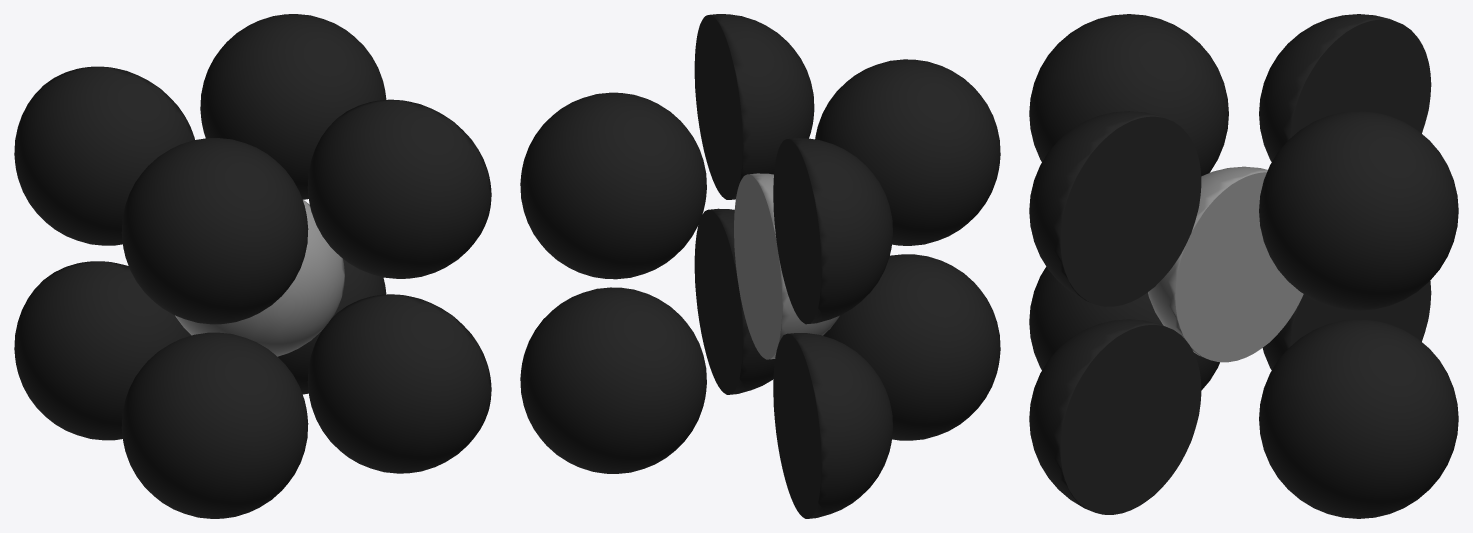
The model's file is solid_state_qn_015.glb.
The picture shows the model from 3 angles, left to right: view 1: azimuth 30°, elevation 25°; view 2: azimuth 150°, elevation 25°; view 3: azimuth 270°, elevation 25°; orthographic projection. The views are drawn at different scales.
Visible parts, largest first — view 1: Icosphere.050, Icosphere.045, Icosphere.043, Icosphere.047, Icosphere.046, Icosphere.042, Icosphere.048, Icosphere.049, Icosphere.044; view 2: Icosphere.048, Icosphere.044, Icosphere.045, Icosphere.050, Icosphere.046, Icosphere.042, Icosphere.047, Icosphere.043, Icosphere.049; view 3: Icosphere.044, Icosphere.048, Icosphere.047, Icosphere.043, Icosphere.045, Icosphere.049, Icosphere.046, Icosphere.050, Icosphere.042.
Boxes of the visible parts, x1,y1,x2,y2 form: Icosphere.050: (121,332,308,518); Icosphere.045: (121,138,308,324); Icosphere.043: (307,294,491,473); Icosphere.047: (307,99,491,278); Icosphere.046: (14,66,194,245); Icosphere.042: (14,261,191,440); Icosphere.048: (200,14,386,199); Icosphere.049: (175,200,344,356); Icosphere.044: (278,259,386,394); Icosphere.048: (520,92,706,279); Icosphere.044: (520,287,706,473); Icosphere.045: (815,59,1000,245); Icosphere.050: (823,254,1000,440); Icosphere.046: (773,138,892,324); Icosphere.042: (773,333,892,518); Icosphere.047: (694,14,814,199); Icosphere.043: (694,208,774,394); Icosphere.049: (734,173,839,359); Icosphere.044: (1259,319,1458,518); Icosphere.048: (1259,111,1458,310); Icosphere.047: (1029,111,1201,306); Icosphere.043: (1029,319,1201,514); Icosphere.045: (1029,14,1228,176); Icosphere.049: (1148,166,1303,362); Icosphere.046: (1259,14,1431,161); Icosphere.050: (1029,266,1219,390); Icosphere.042: (1262,281,1431,370).
Bounding box in the file's own units: 4.3 × 4.3 × 4.3.
1 material, 1 textured.
